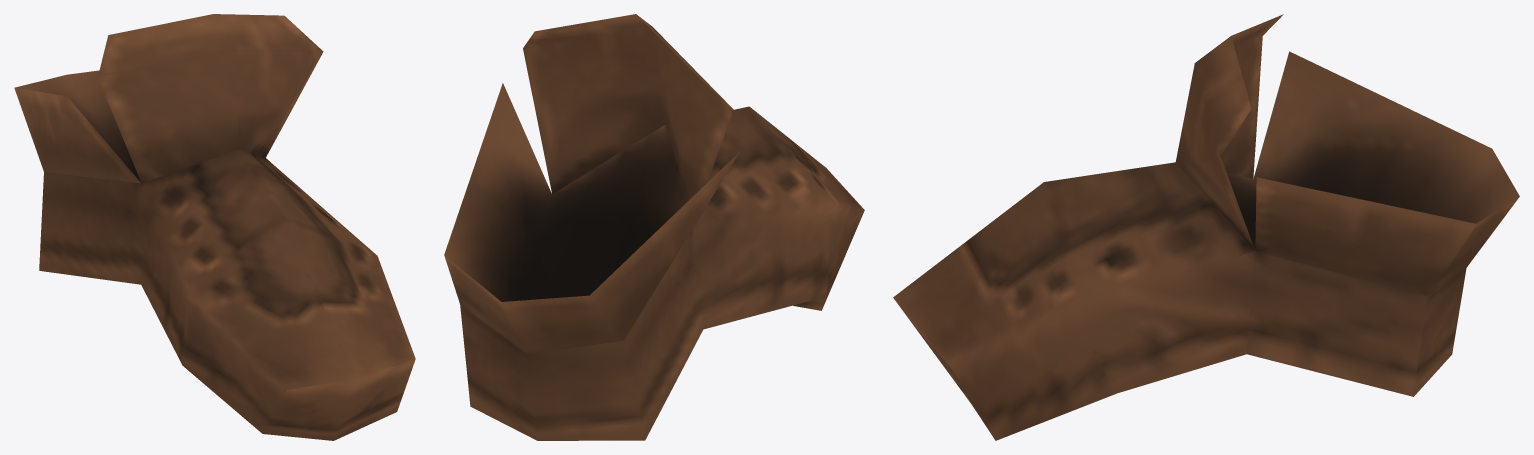
Rendered from OldShoe.glb.
3 views of the same model, side by side, from view 1: azimuth 30°, elevation 25°; view 2: azimuth 150°, elevation 25°; view 3: azimuth 270°, elevation 25° (orthographic). The views are drawn at different scales.
Visible parts, largest first — view 1: Cube; view 2: Cube; view 3: Cube.
Part boxes in pixels (x1,y1,x2,y2): Cube: (14, 14, 415, 440); Cube: (444, 14, 864, 440); Cube: (893, 14, 1519, 440).
Bounding box in the file's own units: 0.6901 × 0.99 × 1.53.
1 material, 1 textured.
